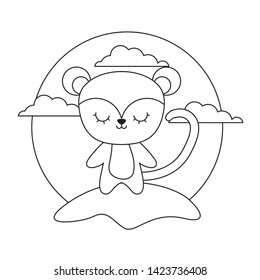animal: (63, 61, 193, 187)
cloud: (15, 93, 78, 120), (168, 106, 246, 126), (98, 49, 169, 67)
